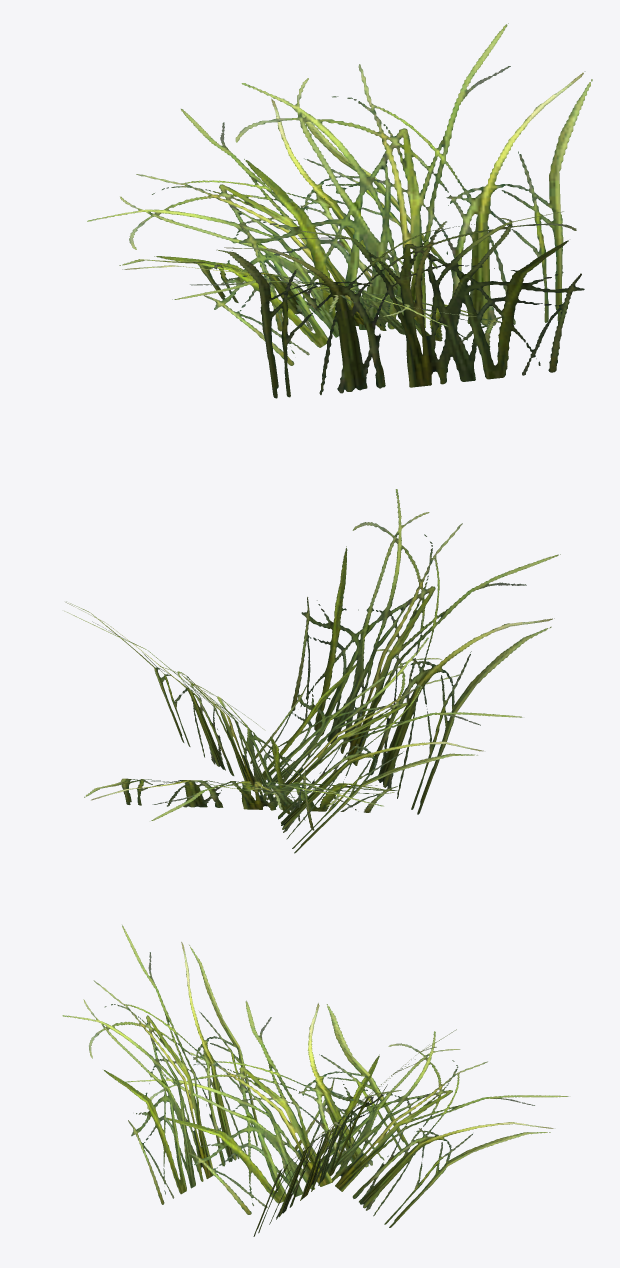
File: wlf_cao01_w.FBX
3 renders of one model, top to bottom at view 1: azimuth 30°, elevation 25°; view 2: azimuth 150°, elevation 25°; view 3: azimuth 270°, elevation 25°, orthographic. The views are drawn at different scales.
Visible parts, largest first — view 1: wlf_cao01_w; view 2: wlf_cao01_w; view 3: wlf_cao01_w.
Part boxes in pixels (x1,y1,x2,y2): wlf_cao01_w: (87, 23, 592, 398); wlf_cao01_w: (64, 489, 560, 853); wlf_cao01_w: (62, 925, 568, 1236).
Bounding box in the file's own units: 2664 × 1336 × 3199.
